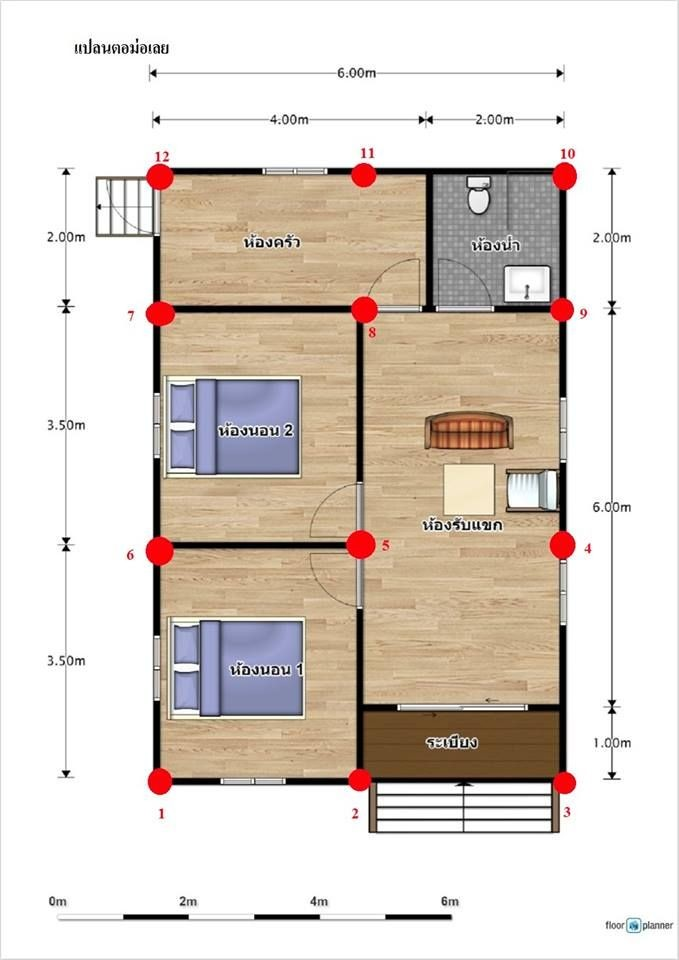room: (354, 299, 566, 782), (153, 306, 365, 550), (155, 540, 363, 786), (151, 173, 428, 318), (420, 170, 564, 314), (291, 470, 371, 546), (295, 543, 370, 624), (361, 242, 434, 324), (420, 244, 500, 315), (92, 180, 168, 246)
wall: (325, 155, 561, 185), (344, 304, 382, 484), (167, 527, 352, 562), (538, 626, 579, 778), (171, 295, 358, 328), (157, 528, 356, 553), (346, 600, 372, 778), (548, 164, 574, 314), (420, 159, 445, 314), (160, 157, 267, 187), (550, 304, 578, 403), (137, 701, 176, 770), (141, 457, 173, 537), (136, 565, 170, 637), (496, 302, 572, 328), (144, 235, 171, 303), (552, 451, 572, 533), (151, 324, 168, 394)
window: (394, 686, 536, 728), (545, 557, 592, 632), (136, 387, 177, 462), (135, 634, 171, 708), (220, 767, 289, 804), (263, 150, 327, 186), (549, 402, 583, 468)
